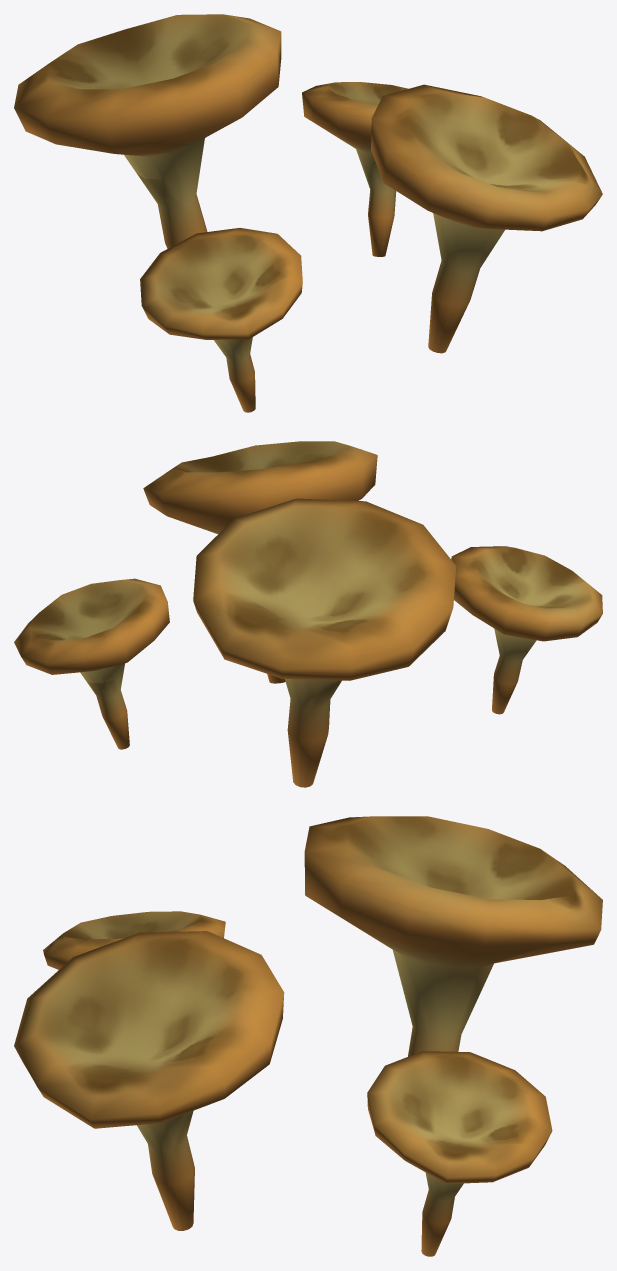
File: V2_Mushrooms.fbx
The picture shows the model from 3 angles, top to bottom: view 1: azimuth 30°, elevation 25°; view 2: azimuth 150°, elevation 25°; view 3: azimuth 270°, elevation 25°; orthographic projection. The views are drawn at different scales.
Visible parts, largest first — view 1: Cylinder.012; view 2: Cylinder.012; view 3: Cylinder.012.
Boxes of the visible parts, bbox=[...] form: Cylinder.012: bbox=[14, 14, 602, 412]; Cylinder.012: bbox=[14, 441, 602, 787]; Cylinder.012: bbox=[14, 816, 602, 1256].
Bounding box in the file's own units: 285 × 164 × 289.
Materials: 1 (1 with a texture image).
